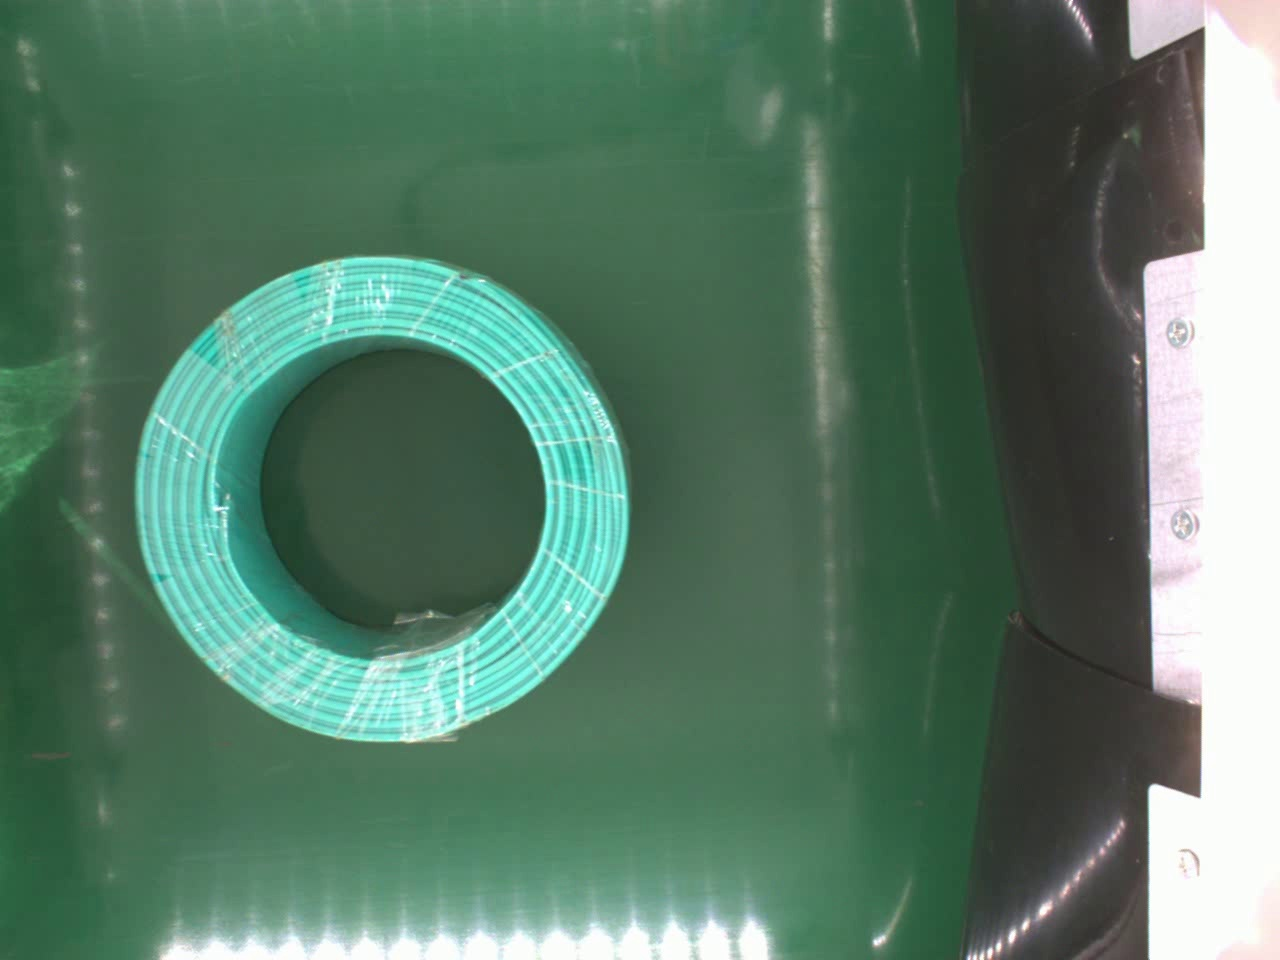green: (130, 248, 630, 741)
